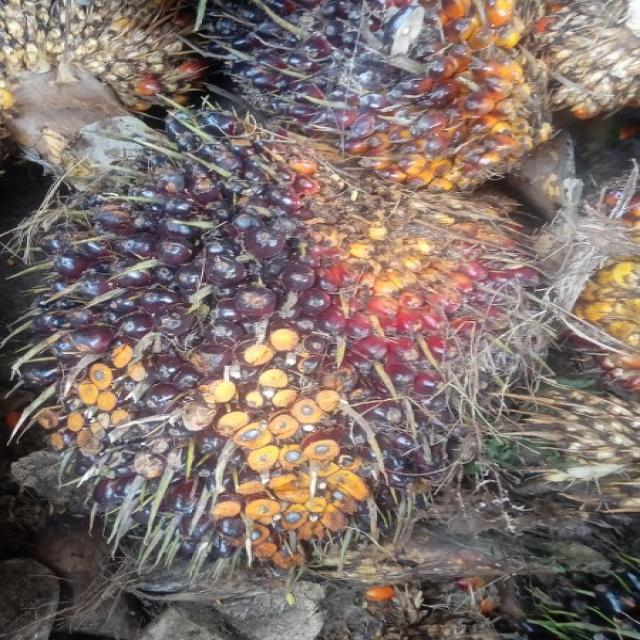fraksi 00: (7, 115, 537, 576)
